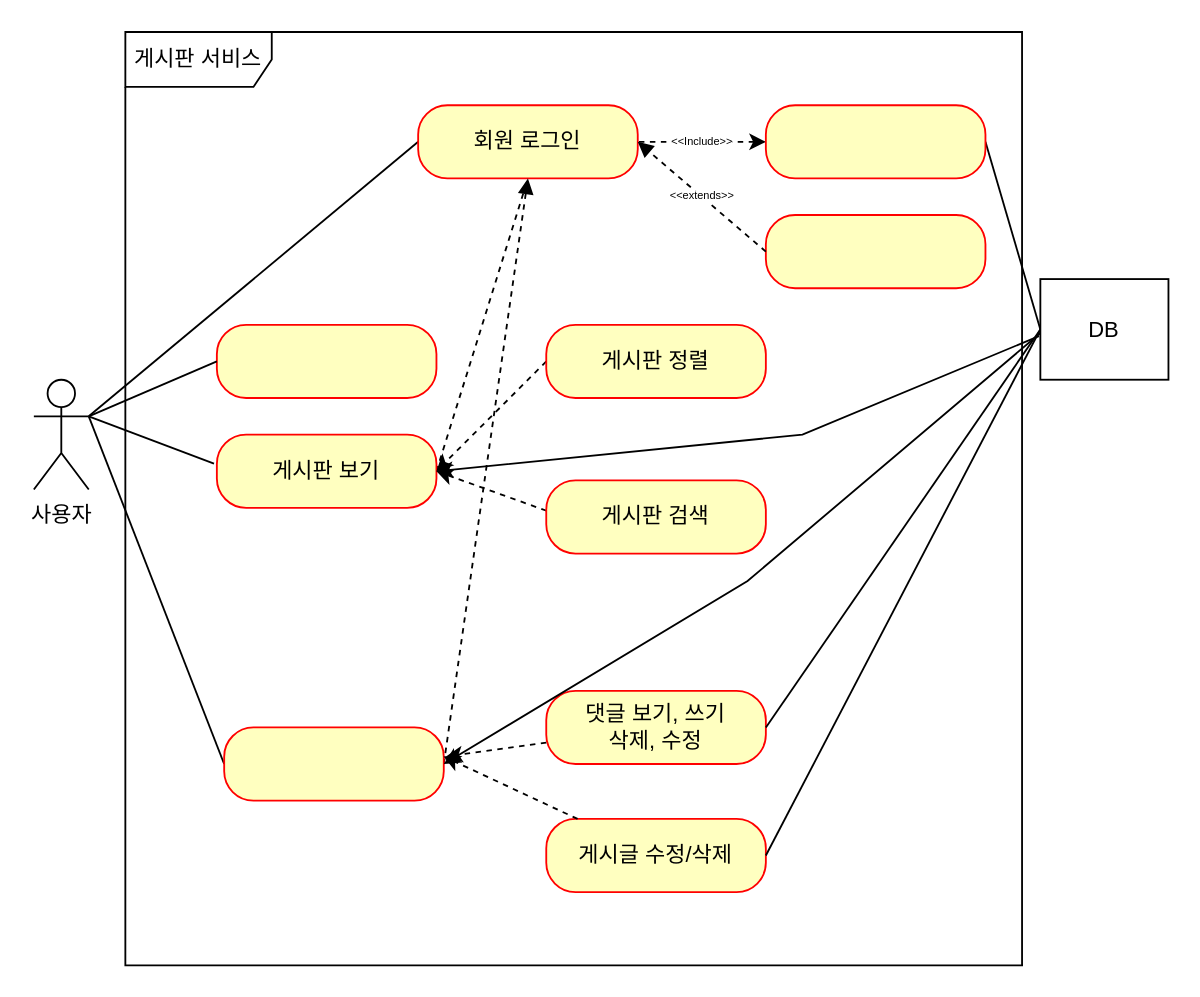
Image size: 1200x997. Some labels were removed from this diagram. The shapes that lost their labels are listed below. From the top down, each one's centre as x and y in pixels, then its label:
the point at 874,140: 인증
the point at 874,250: 로그인 실패
the point at 325,360: 회원 가입
the point at 333,763: 게시글 보기
